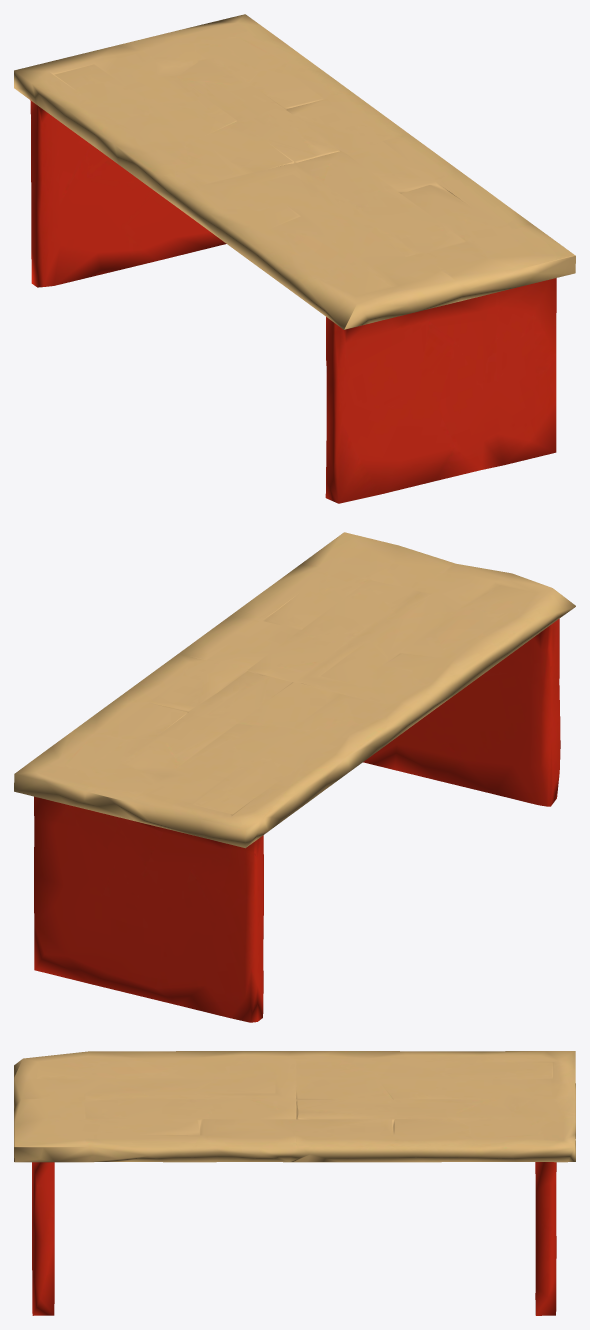
Rendered from confTable.glb.
3 views of the same model, one above another, from view 1: azimuth 30°, elevation 25°; view 2: azimuth 150°, elevation 25°; view 3: azimuth 270°, elevation 25° (orthographic). The views are drawn at different scales.
Visible parts, largest first — view 1: tripo_node_17935891-5688-4c54-8482-f48c52c9e586; view 2: tripo_node_17935891-5688-4c54-8482-f48c52c9e586; view 3: tripo_node_17935891-5688-4c54-8482-f48c52c9e586.
Boxes of the visible parts, x1,y1,x2,y2 form: tripo_node_17935891-5688-4c54-8482-f48c52c9e586: [14, 14, 575, 503]; tripo_node_17935891-5688-4c54-8482-f48c52c9e586: [14, 532, 575, 1022]; tripo_node_17935891-5688-4c54-8482-f48c52c9e586: [14, 1051, 575, 1315].
Size of the model in its own units: 0.4056 by 0.3395 by 1.
1 material, 1 textured.
